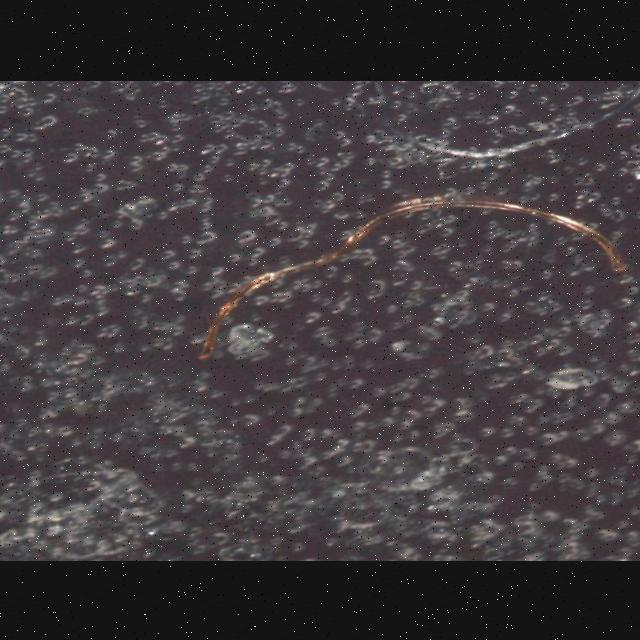Fibre: (192, 198, 628, 360)
